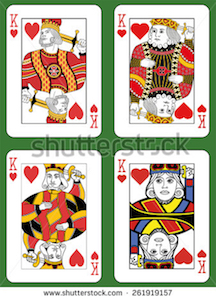KingOfHearts: (110, 2, 211, 141), (3, 4, 105, 141), (111, 147, 211, 284), (4, 149, 103, 285)
